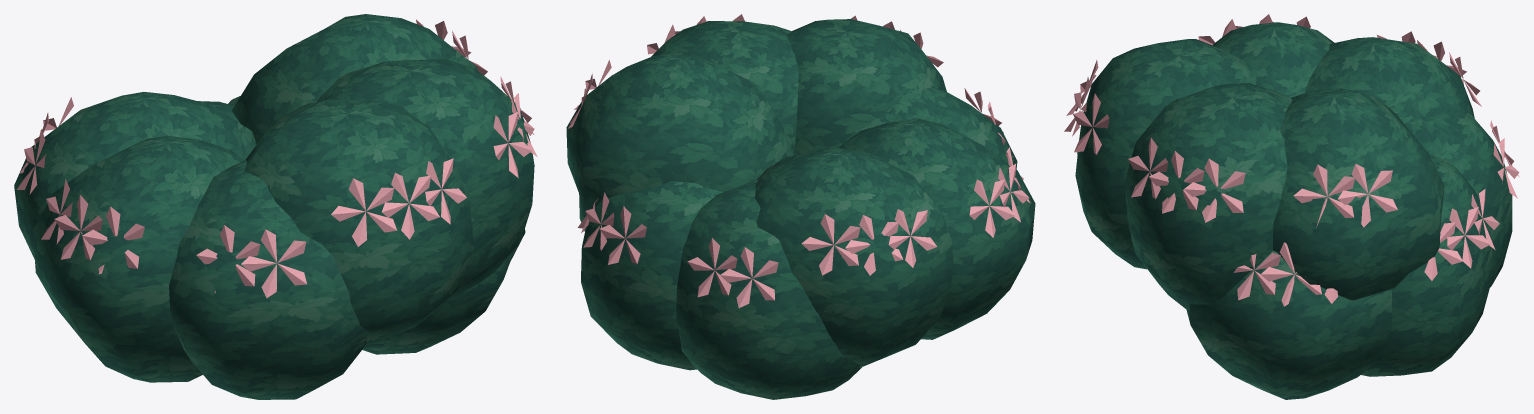
Rendered from bush.glb.
3 renders of one model, left to right at view 1: azimuth 30°, elevation 25°; view 2: azimuth 150°, elevation 25°; view 3: azimuth 270°, elevation 25°, orthographic. The views are drawn at different scales.
Parts seen in each view (by area): view 1: bush; view 2: bush; view 3: bush.
Boxes of the visible parts, x1=… form: bush: x1=14, y1=14, x2=537, y2=399; bush: x1=566, y1=14, x2=1035, y2=399; bush: x1=1064, y1=14, x2=1519, y2=399.
Size of the model in its own units: 1.48 by 0.9416 by 1.34.
1 material, 1 textured.
